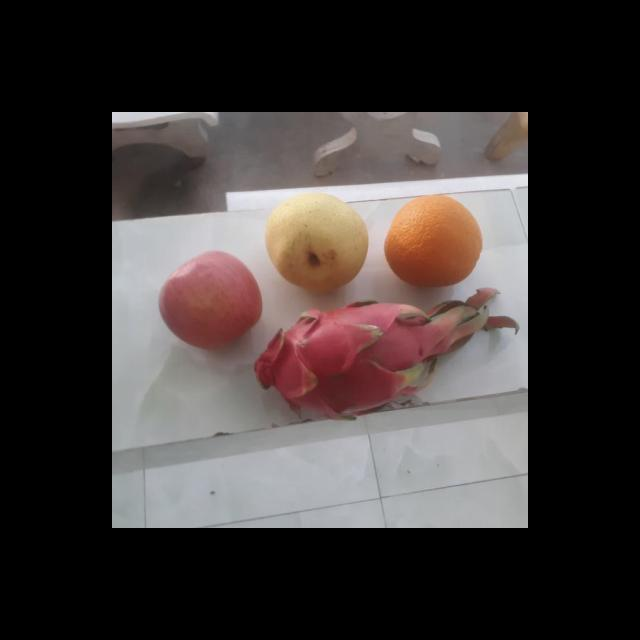apple: (156, 252, 262, 346)
orange: (382, 192, 483, 290)
pear: (258, 194, 371, 291)
pitaya: (238, 302, 430, 416)
